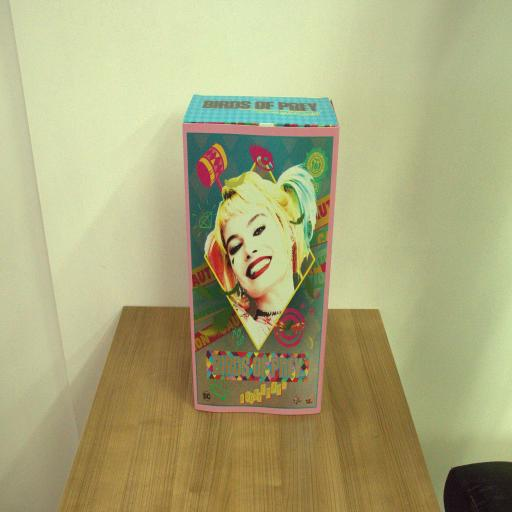Harley: (183, 92, 339, 415)
